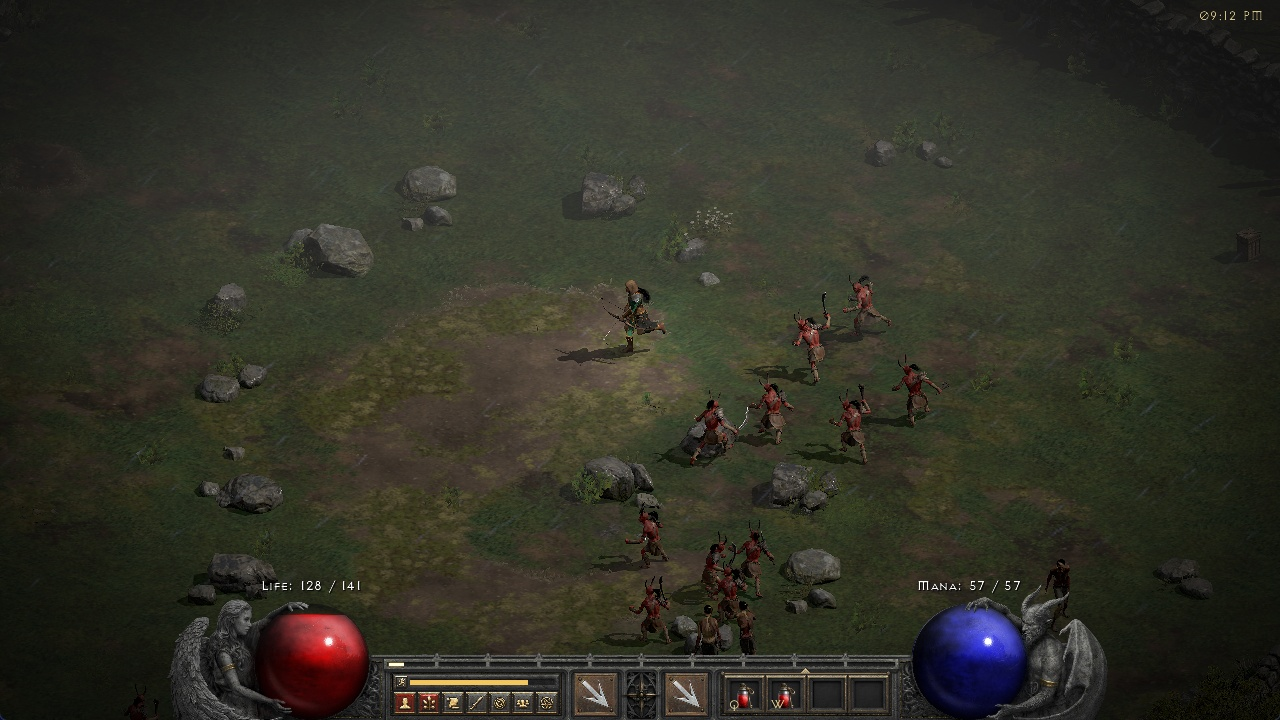fallen: (682, 401, 748, 466), (746, 381, 803, 447), (838, 274, 898, 336), (792, 296, 835, 372), (835, 389, 877, 466), (889, 359, 938, 418), (745, 526, 786, 591), (633, 581, 679, 637), (632, 508, 674, 564), (705, 535, 728, 573), (723, 571, 745, 601)
